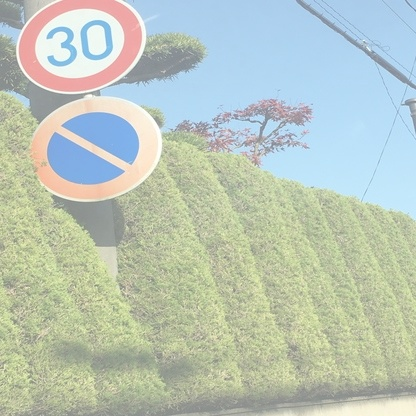Prohibition_sign: (27, 93, 175, 200)
Speed_sign: (12, 1, 154, 91)
